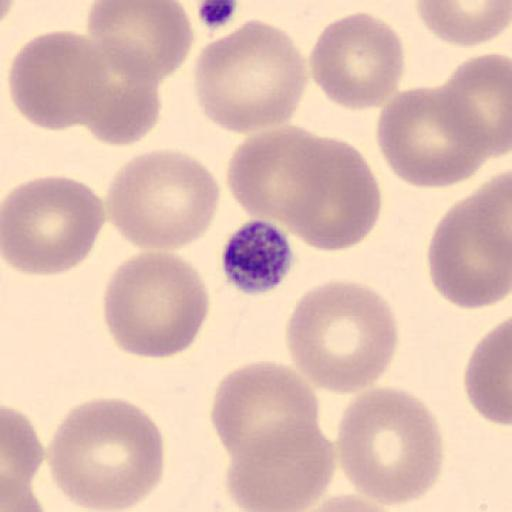Platelet: (218, 217, 296, 296)
RBC: (192, 17, 310, 135), (46, 396, 166, 512), (284, 278, 400, 396), (335, 384, 444, 508), (277, 133, 383, 253), (375, 83, 491, 192), (209, 359, 323, 469), (104, 148, 222, 254), (226, 123, 332, 239), (100, 250, 210, 360), (425, 174, 512, 312), (222, 414, 337, 512), (2, 173, 108, 278), (67, 34, 163, 148), (8, 28, 109, 133), (308, 10, 406, 113), (84, 0, 195, 82), (441, 51, 512, 158), (463, 315, 512, 428), (414, 0, 512, 48), (2, 403, 44, 512), (285, 492, 403, 512), (2, 468, 46, 512), (0, 0, 21, 34)
